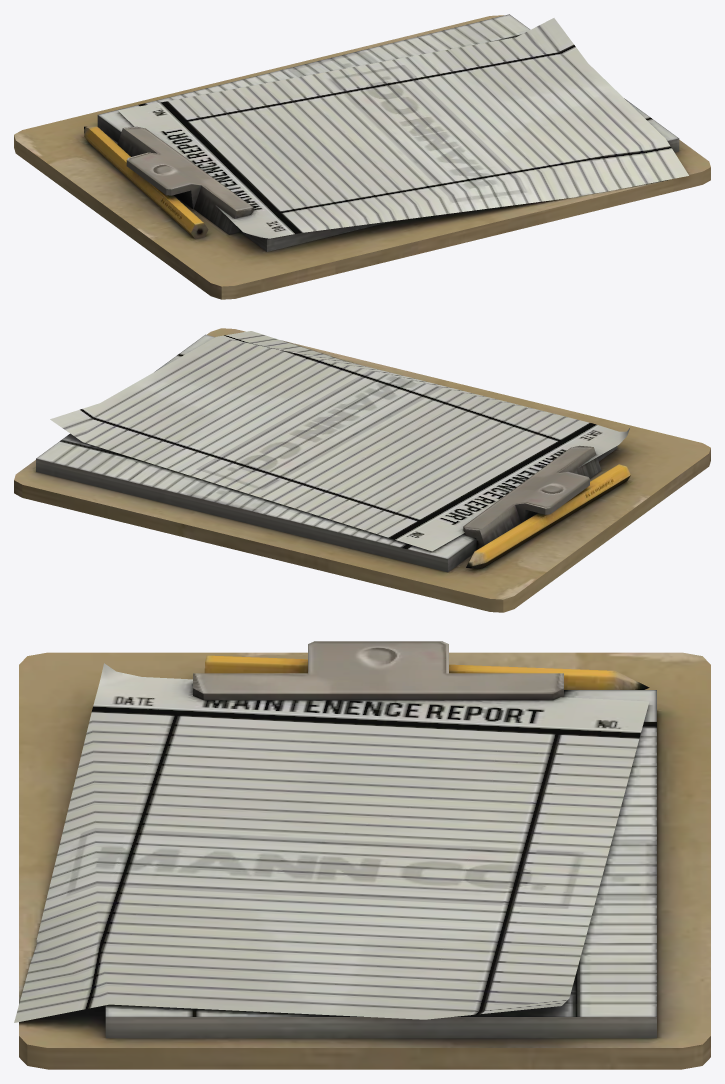
3 views of the same model, one above another, from view 1: azimuth 30°, elevation 25°; view 2: azimuth 150°, elevation 25°; view 3: azimuth 270°, elevation 25° (orthographic). The views are drawn at different scales.
Visible parts, largest first — view 1: body0_model0_lod0_mesh0; view 2: body0_model0_lod0_mesh0; view 3: body0_model0_lod0_mesh0.
Boxes of the visible parts, left/top/right/bottom form: body0_model0_lod0_mesh0: left=14, top=14, right=710, bottom=299; body0_model0_lod0_mesh0: left=14, top=328, right=710, bottom=612; body0_model0_lod0_mesh0: left=14, top=641, right=710, bottom=1069.
Bounding box in the file's own units: 23.72 × 1.83 × 17.56.
Materials: 1 (1 with a texture image).
